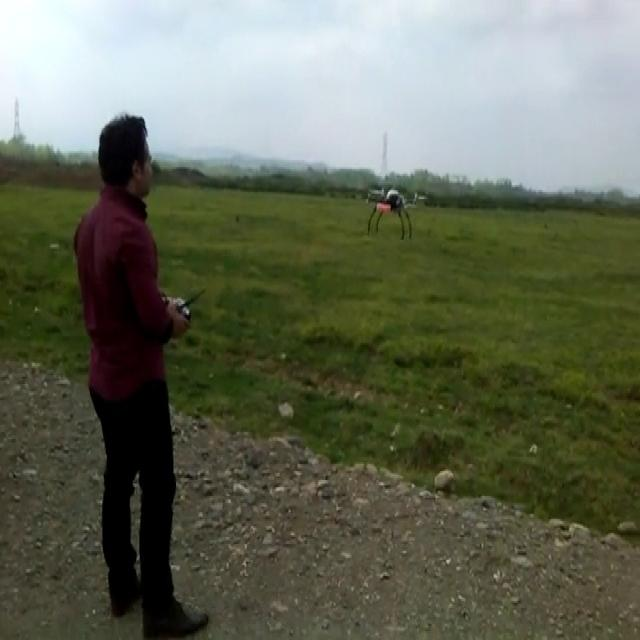drone: (362, 185, 431, 238)
